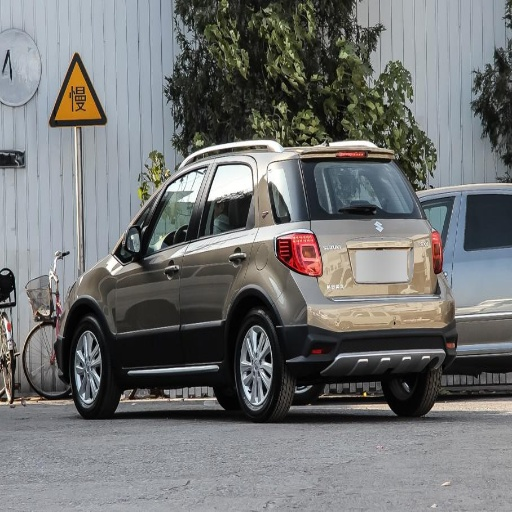back_bumper: (277, 272, 452, 377)
back_glass: (270, 159, 420, 217)
back_left_door: (181, 157, 259, 366)
tailgate: (314, 218, 431, 299)
